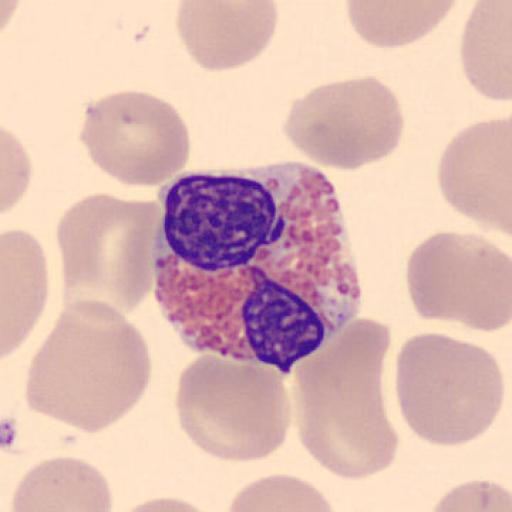RBC: (292, 316, 398, 480), (25, 300, 153, 435), (55, 191, 164, 317), (173, 354, 293, 463), (394, 332, 506, 448), (281, 75, 406, 172), (404, 229, 512, 332), (80, 90, 192, 188), (436, 116, 512, 233), (174, 0, 279, 73), (2, 226, 52, 359), (11, 454, 113, 512), (345, 0, 460, 49), (459, 0, 512, 104), (224, 472, 335, 512), (1, 125, 33, 216), (429, 478, 512, 512), (113, 495, 218, 512), (0, 0, 23, 41)
WBC: (152, 162, 364, 371)
